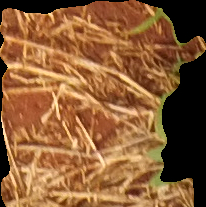soil: (2, 2, 204, 206)
